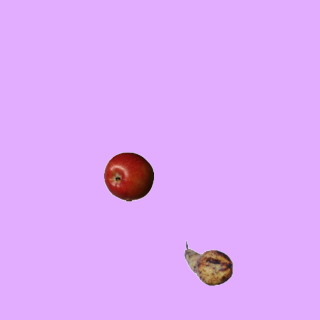Apple Braeburn: (103, 151, 153, 201)
Pear Abate: (183, 238, 233, 288)
